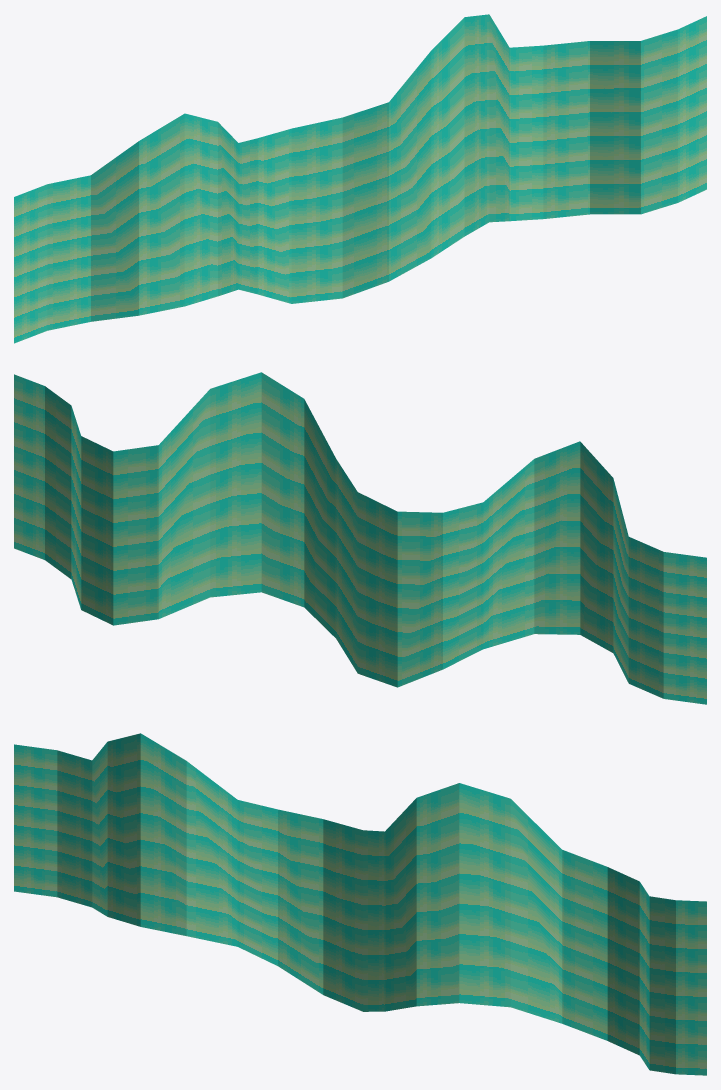
The picture shows the model from 3 angles, top to bottom: view 1: azimuth 30°, elevation 25°; view 2: azimuth 150°, elevation 25°; view 3: azimuth 330°, elevation 25°; orthographic projection.
Parts seen in each view (by area): view 1: ef_091; view 2: ef_091; view 3: ef_091.
Boxes of the visible parts, bbox=[...] form: ef_091: bbox=[14, 14, 706, 343]; ef_091: bbox=[14, 372, 706, 704]; ef_091: bbox=[14, 733, 706, 1075].
Size of what is drawn, in the model's own units: 9.81 by 3.58 by 1.31.
Materials: 1 (1 with a texture image).
